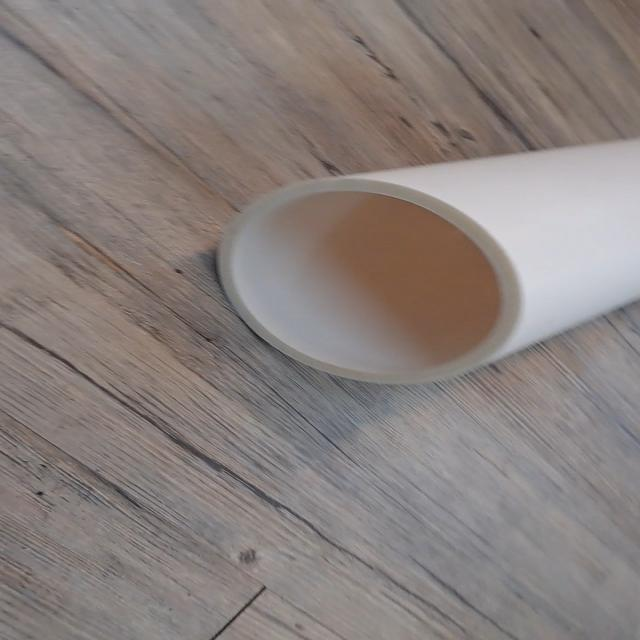CORAL: (196, 99, 640, 406)
